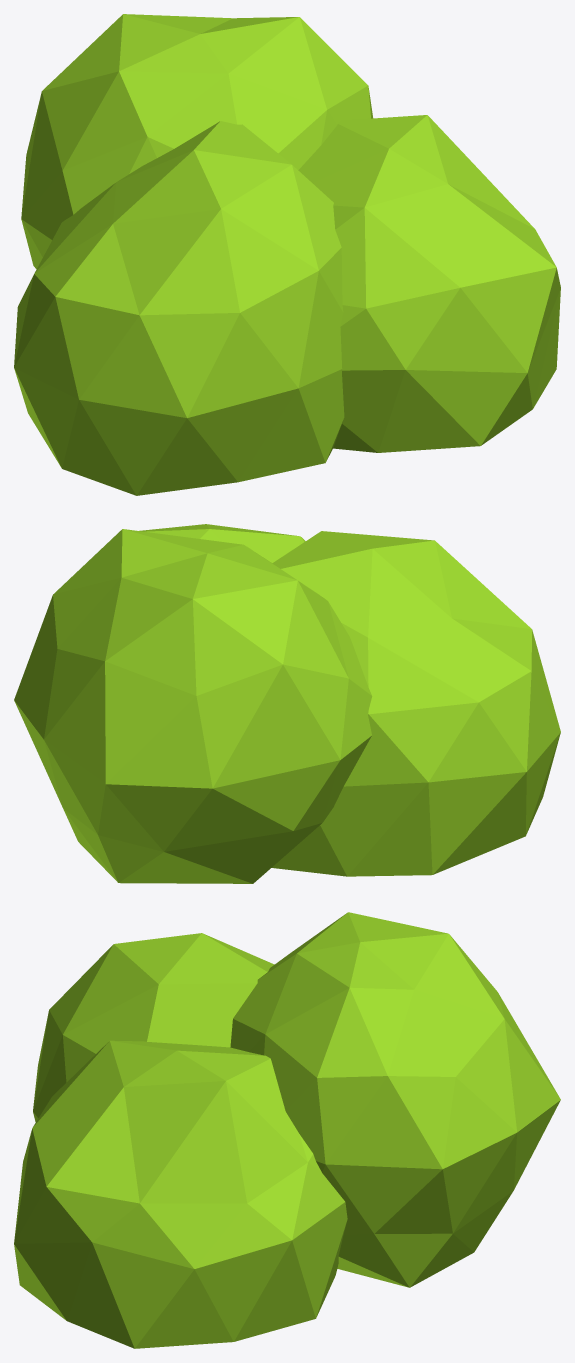
Rendered from object_landscape_bush_medium.glb.
3 renders of one model, top to bottom at view 1: azimuth 30°, elevation 25°; view 2: azimuth 150°, elevation 25°; view 3: azimuth 270°, elevation 25°, orthographic. The views are drawn at different scales.
Visible parts, largest first — view 1: object_landscape_bush_medium; view 2: object_landscape_bush_medium; view 3: object_landscape_bush_medium.
Part boxes in pixels (<box>): object_landscape_bush_medium: <box>14,14,560,495</box>; object_landscape_bush_medium: <box>14,524,560,883</box>; object_landscape_bush_medium: <box>14,912,560,1348</box>.
Size of the model in its own units: 0.2811 by 0.1631 by 0.2743.
